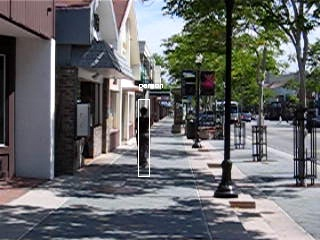person: (136, 108, 155, 169), (135, 108, 154, 169), (137, 108, 156, 169), (136, 107, 155, 168), (136, 109, 155, 170)
target_negative: (129, 128, 266, 199), (115, 110, 260, 171), (66, 59, 186, 130), (13, 12, 98, 68), (237, 172, 289, 193)
